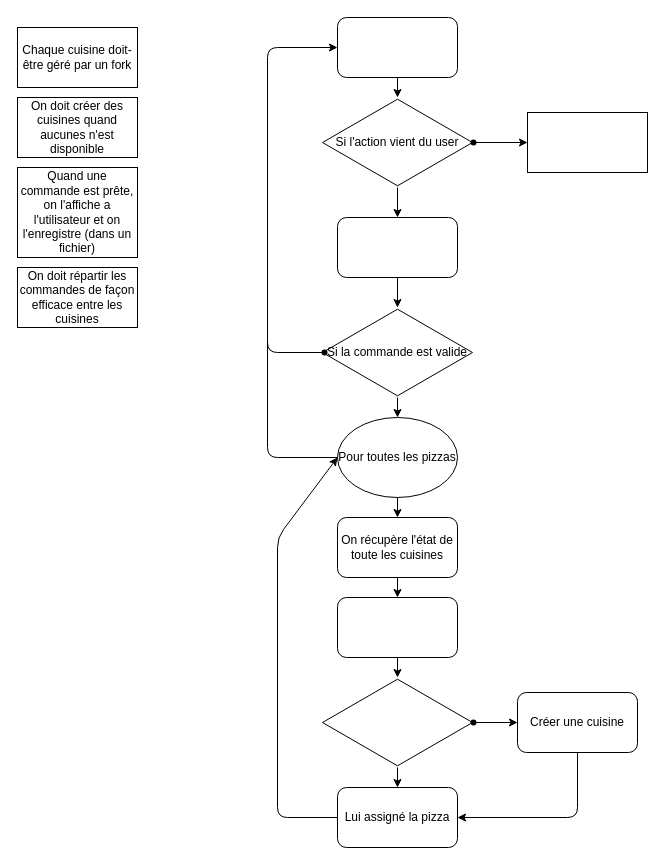
This 665x865 diagram has some shape labels left out. Each missing label, with the centre of its shape:
"Lire la commande" goes at pixel 397 247.
"On les classes par ordres décroissant en capacité de pizza" goes at pixel 397 627.
"Quand il y a une action (user ou kitchens)" goes at pixel 397 47.
"Si la première cuisine de la liste à de la place" goes at pixel 397 722.
"TODO gestion des commandes terminés" goes at pixel 587 142.
